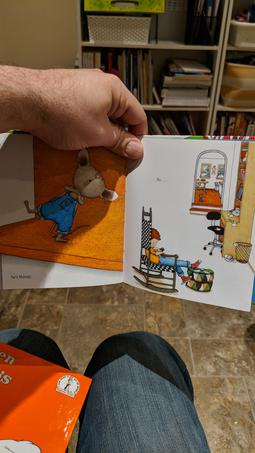text block: (7, 267, 36, 282), (153, 172, 166, 186)
